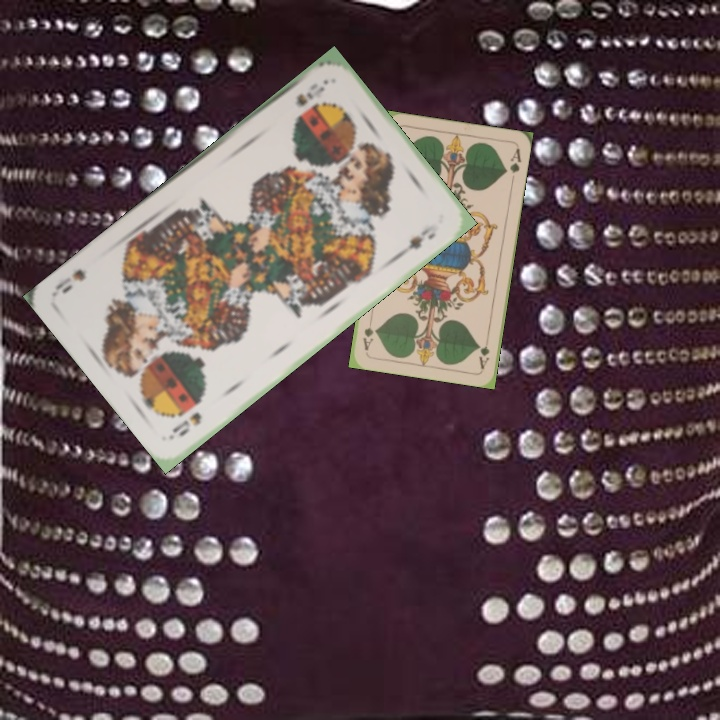GA: (475, 331, 492, 371)
SO: (168, 407, 204, 439), (291, 82, 327, 110)
